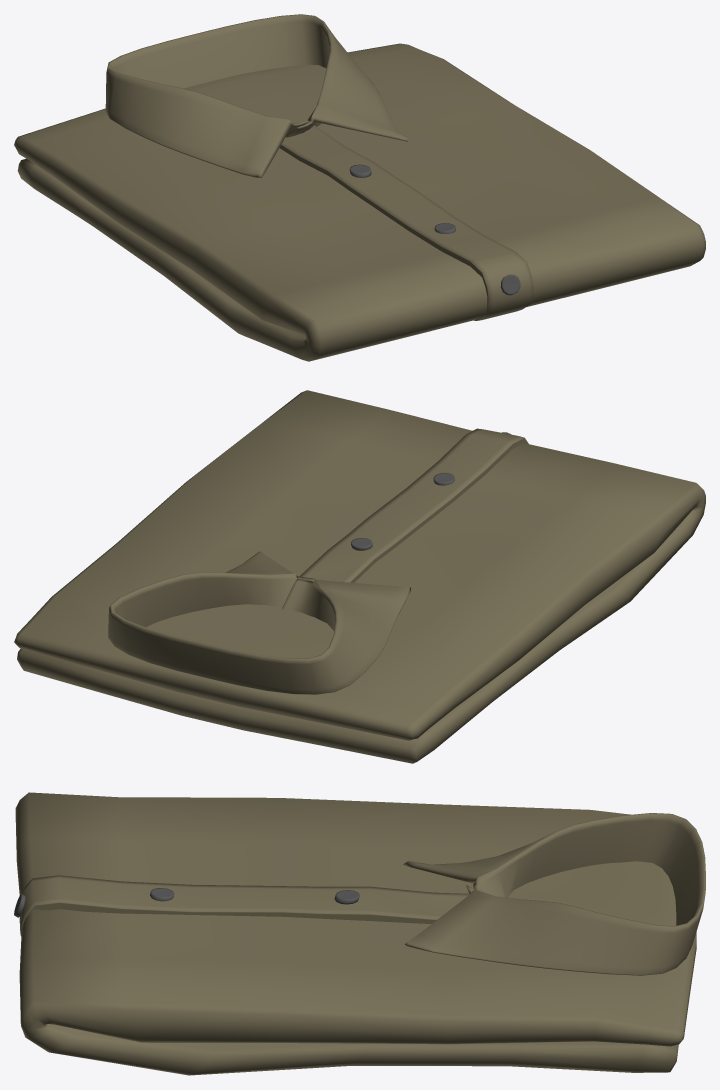
File: Folded_Shirt25.fbx
The picture shows the model from 3 angles, top to bottom: view 1: azimuth 30°, elevation 25°; view 2: azimuth 150°, elevation 25°; view 3: azimuth 270°, elevation 25°; orthographic projection. The views are drawn at different scales.
Visible parts, largest first — view 1: Folded_Shirt25; view 2: Folded_Shirt25; view 3: Folded_Shirt25.
Part boxes in pixels (bbox=[...]): Folded_Shirt25: bbox=[14, 14, 705, 361]; Folded_Shirt25: bbox=[14, 390, 705, 763]; Folded_Shirt25: bbox=[14, 792, 705, 1075].
Bounding box in the file's own units: 25.02 × 5.51 × 33.24.
